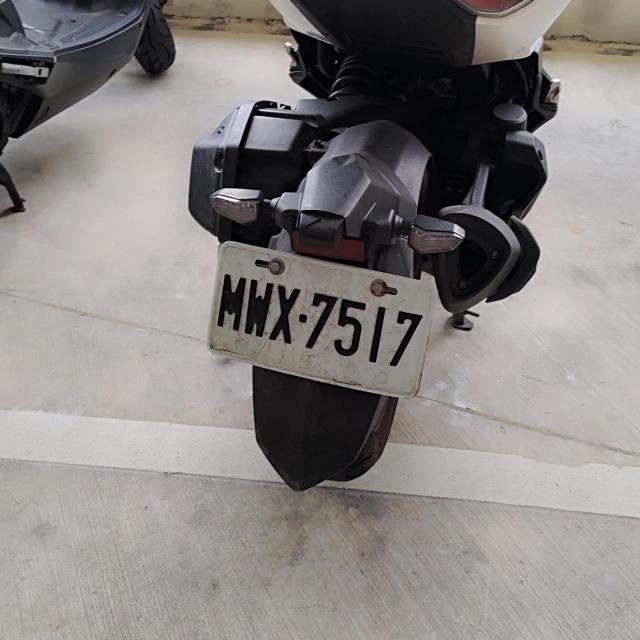W: (204, 240, 436, 401)
